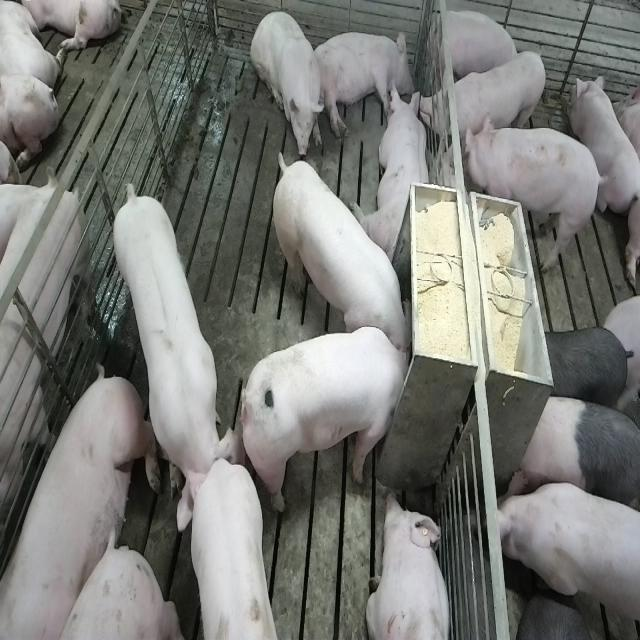Feeding: (245, 325, 420, 514), (268, 143, 410, 354)
Lateral_lying: (310, 28, 416, 139)
Sitting: (250, 7, 325, 160)
Standing: (0, 167, 100, 640), (109, 184, 234, 516), (497, 479, 638, 640), (463, 116, 608, 268), (170, 458, 280, 640), (516, 392, 638, 517), (419, 49, 548, 162), (534, 324, 634, 416)
Sternal_lying: (358, 85, 432, 266), (366, 489, 453, 640), (571, 73, 638, 221), (428, 7, 520, 91)
